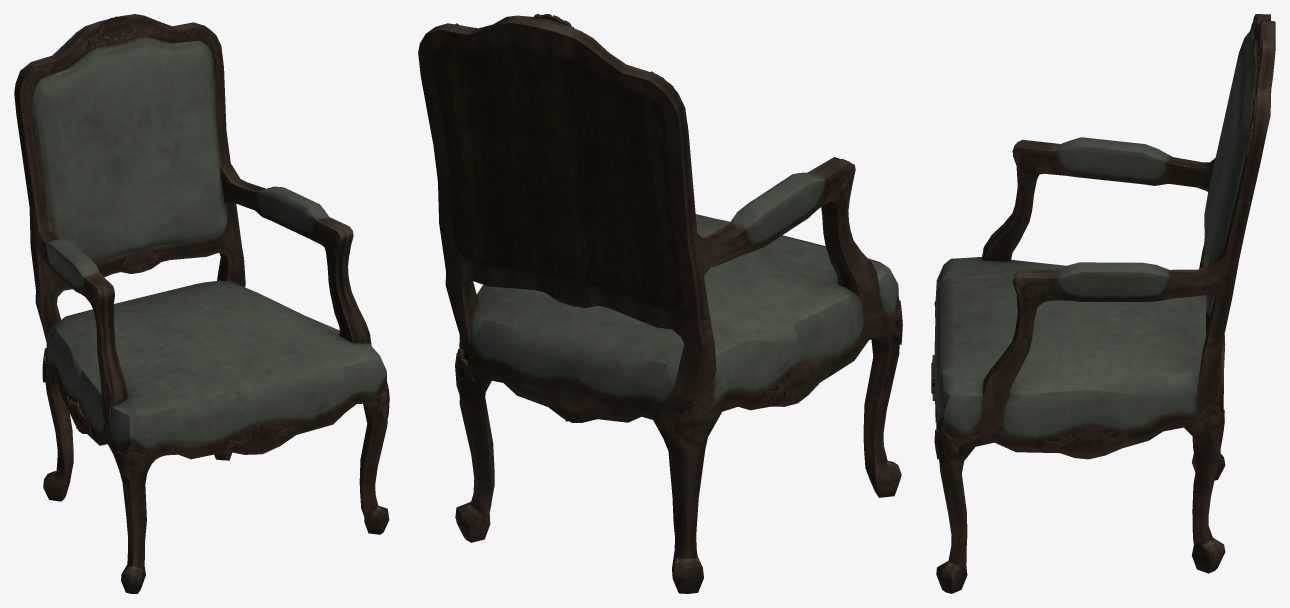
Rendered from chair_green.glb.
The picture shows the model from 3 angles, left to right: view 1: azimuth 30°, elevation 25°; view 2: azimuth 150°, elevation 25°; view 3: azimuth 270°, elevation 25°; orthographic projection. The views are drawn at different scales.
Parts seen in each view (by area): view 1: mesh; view 2: mesh; view 3: mesh.
Part boxes in pixels (<box>): mesh: <box>14,14,389,593</box>; mesh: <box>418,14,902,593</box>; mesh: <box>931,14,1275,593</box>.
Size of the model in its own units: 0.6732 by 1.06 by 0.6644.
1 material, 1 textured.
